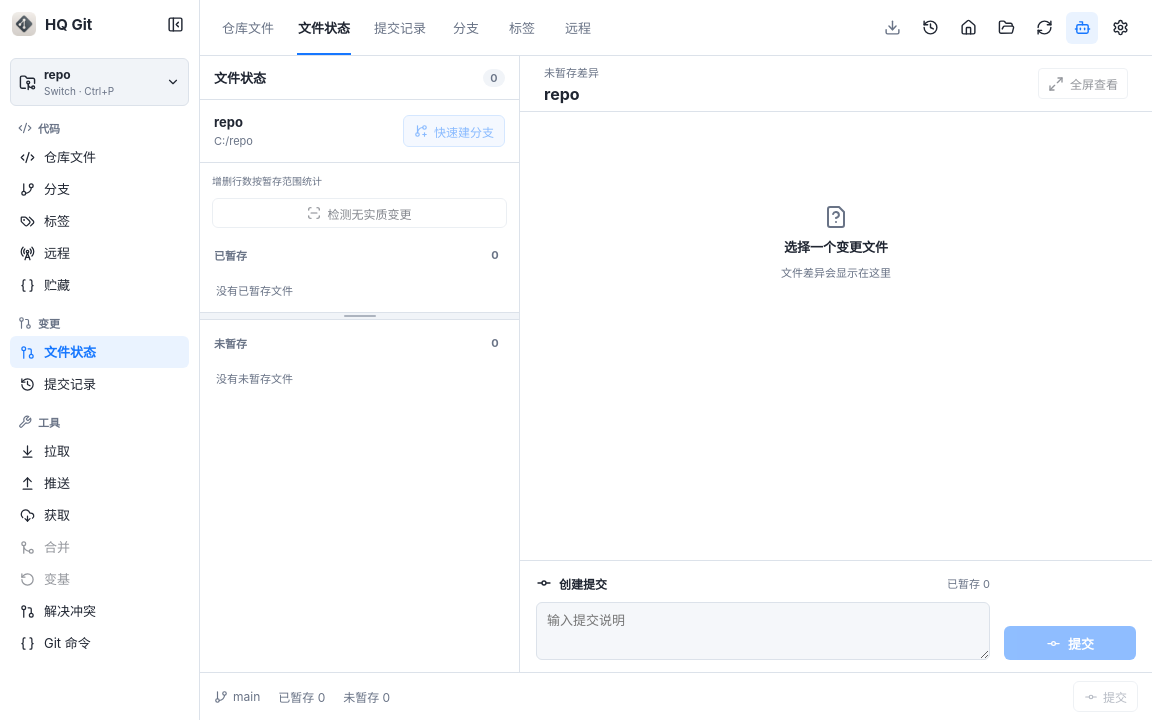
conflict workbench › opens conflicts, labels rebase sides and adopts a draft before explicit save
The image size is (1152, 720).
Click the button with aria-label "打开解决冲突" at (100,611), box [10,595,189,627]
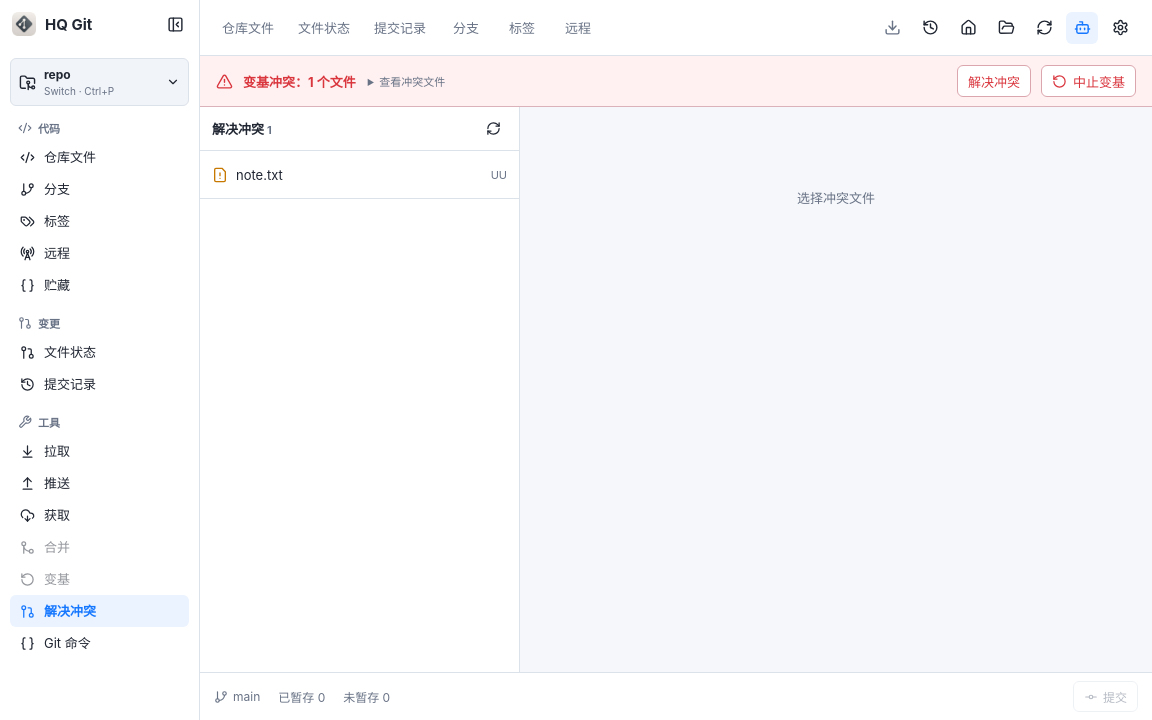
Click the button with aria-label "查看冲突 note.txt" at (259,174), box [200,151,519,199]
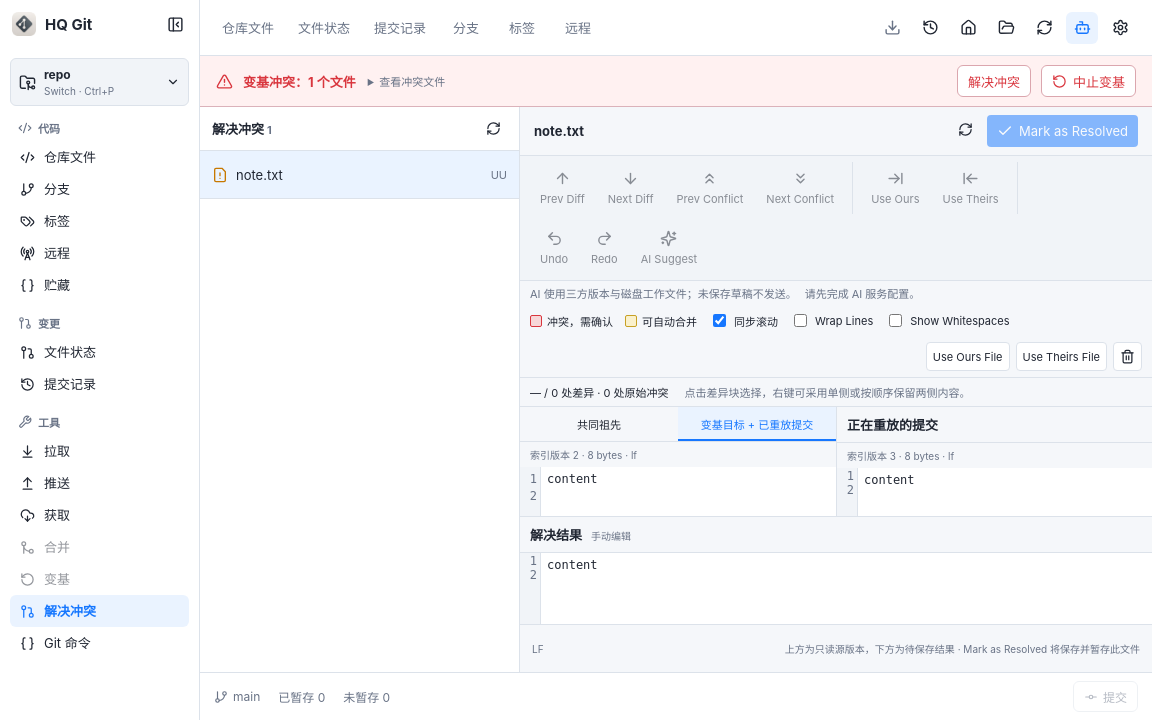
Expected: the text "正在重放的提交" is shown, [837,407,1151,443]
Click the button with aria-label "采用索引版本 3" at (1061,356), box [1016,342,1107,371]
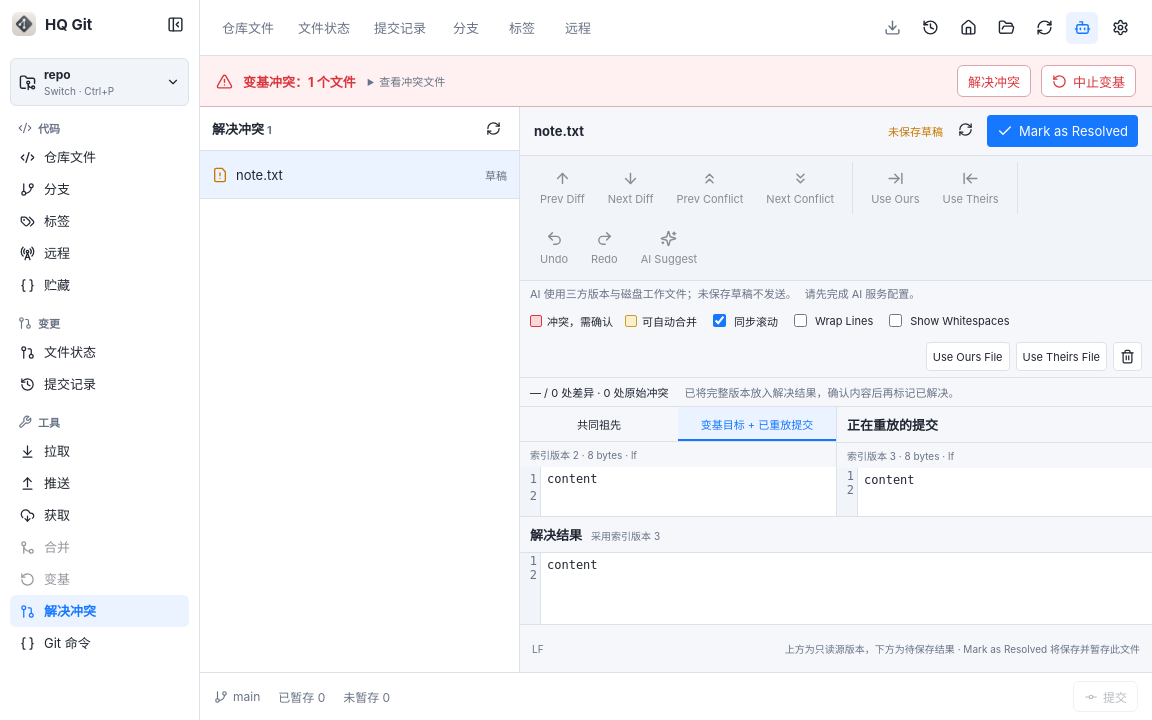
Click the button with aria-label "保存并标记已解决" at (1062,131), box [987,115,1138,147]
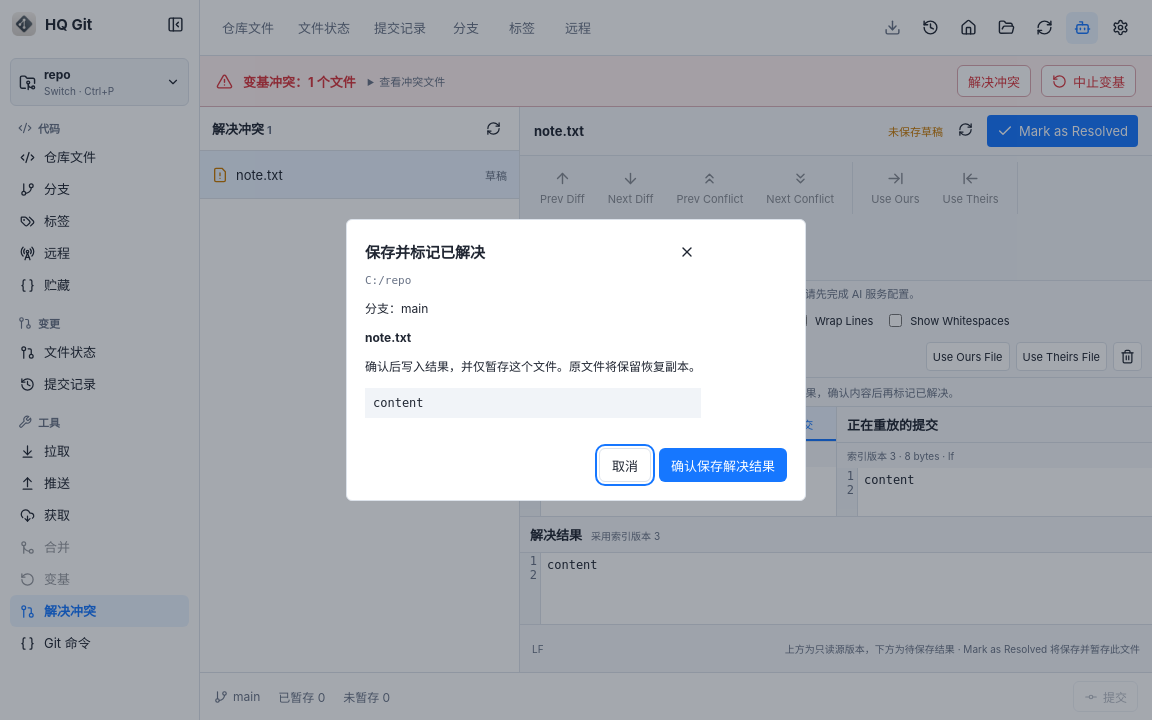
Expected: the dialog shows "note.txt", [365,330,411,345]
